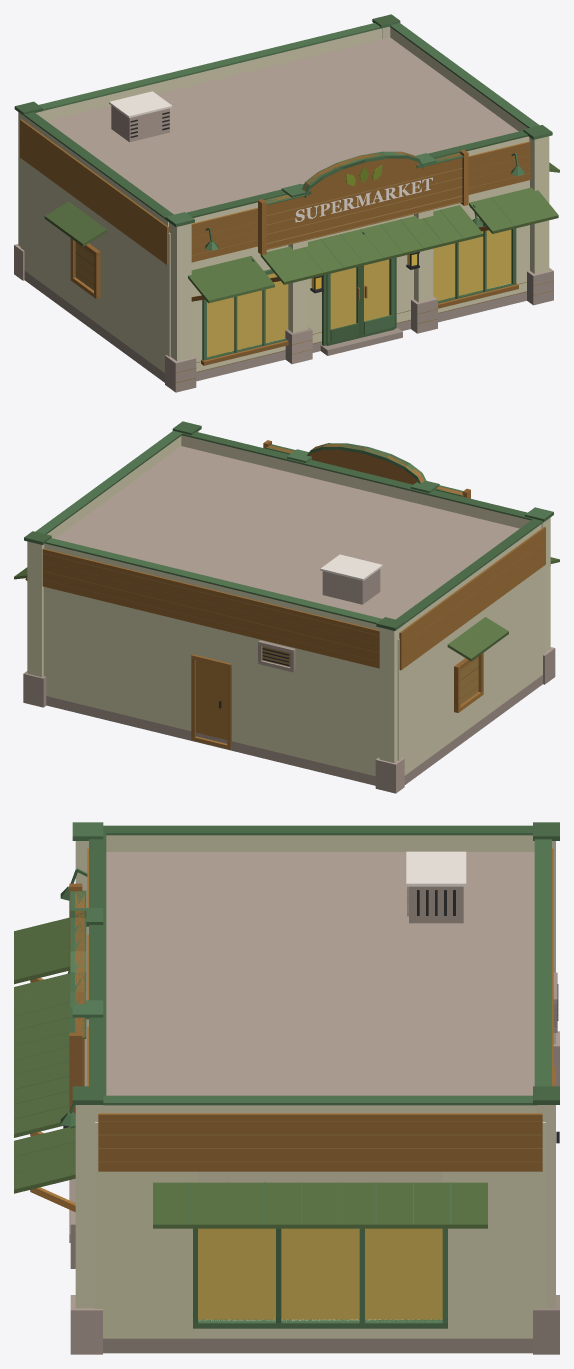
File: MiniMarket_A.fbx
3 renders of one model, top to bottom at view 1: azimuth 30°, elevation 25°; view 2: azimuth 150°, elevation 25°; view 3: azimuth 270°, elevation 25°, orthographic. The views are drawn at different scales.
Visible parts, largest first — view 1: MiniMarket_A_Body, MM_DoorLeft.001, MM_DoorRight.001; view 2: MiniMarket_A_Body; view 3: MiniMarket_A_Body.
Part boxes in pixels (bbox=[...]): MiniMarket_A_Body: bbox=[14, 14, 559, 392]; MM_DoorLeft.001: bbox=[326, 266, 361, 345]; MM_DoorRight.001: bbox=[361, 258, 394, 337]; MiniMarket_A_Body: bbox=[14, 421, 559, 793]; MiniMarket_A_Body: bbox=[14, 822, 559, 1354].
Bounding box in the file's own units: 11.78 × 4.85 × 8.48.
